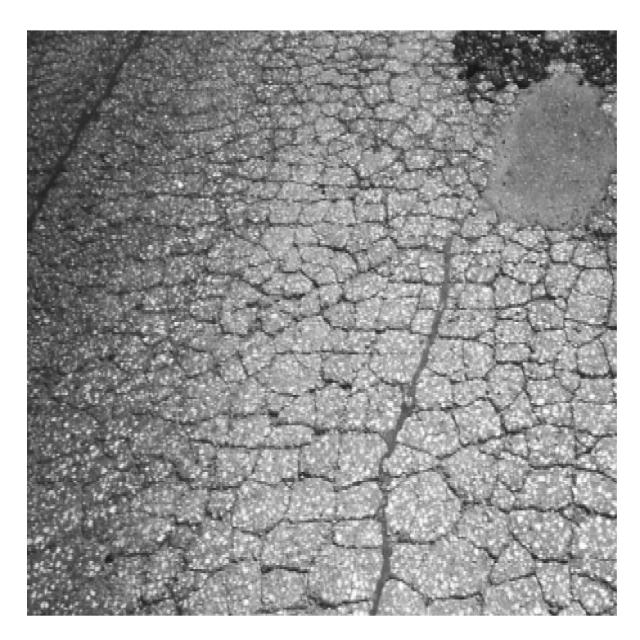Drain Hole: (279, 139, 640, 563)
